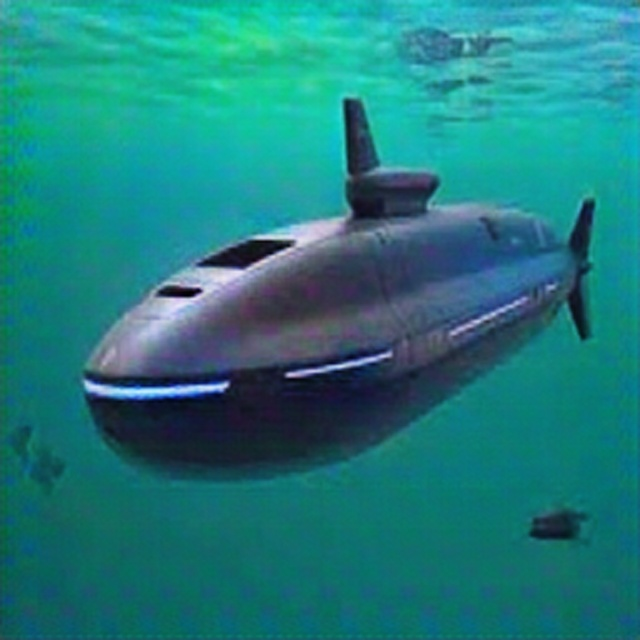submarine: (71, 93, 600, 491)
